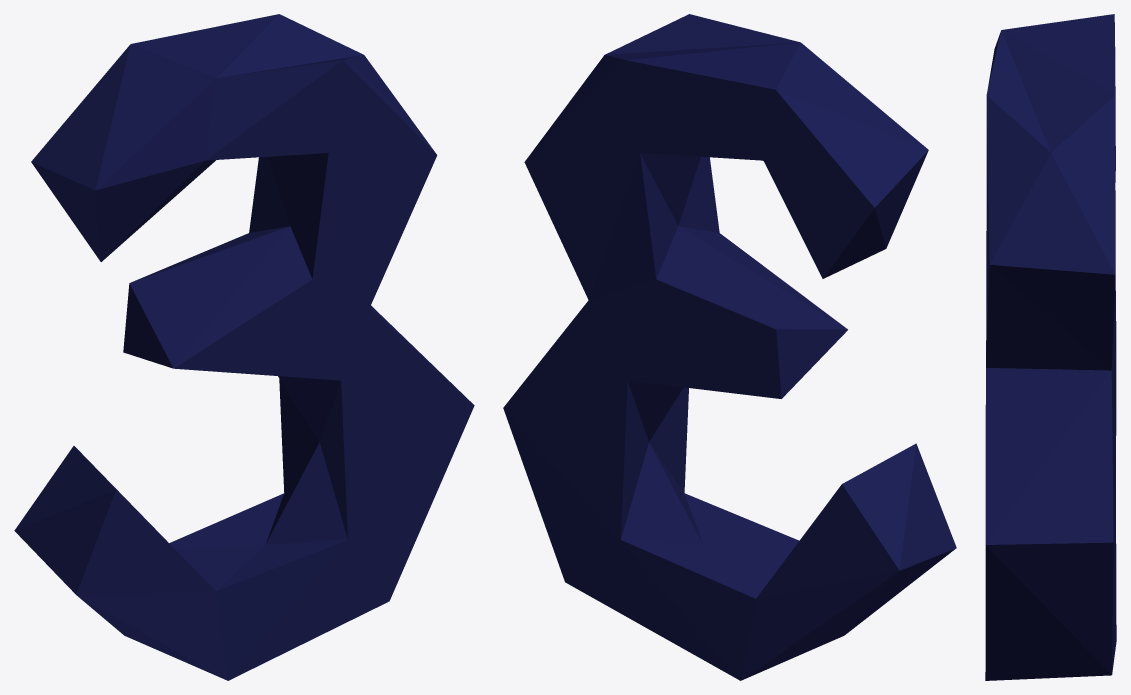
The picture shows the model from 3 angles, left to right: view 1: azimuth 30°, elevation 25°; view 2: azimuth 150°, elevation 25°; view 3: azimuth 270°, elevation 25°; orthographic projection.
Visible parts, largest first — view 1: Three; view 2: Three; view 3: Three.
Boxes of the visible parts, box(x1,y1,x2,y2) form: Three: box(14, 14, 474, 680); Three: box(503, 14, 956, 680); Three: box(985, 14, 1116, 680).
Size of the model in its own units: 0.3515 by 0.5018 by 0.0976.
